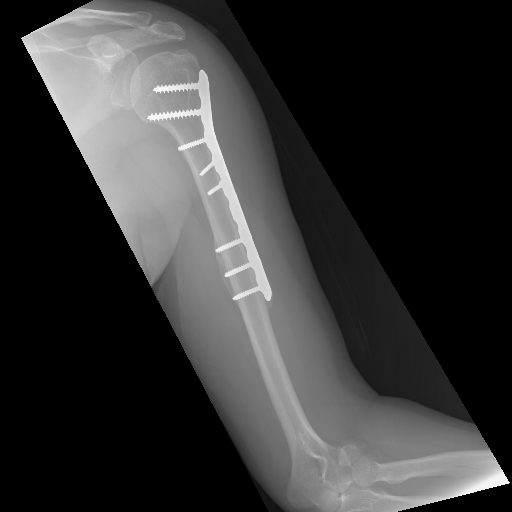implant: (149, 67, 274, 301)
